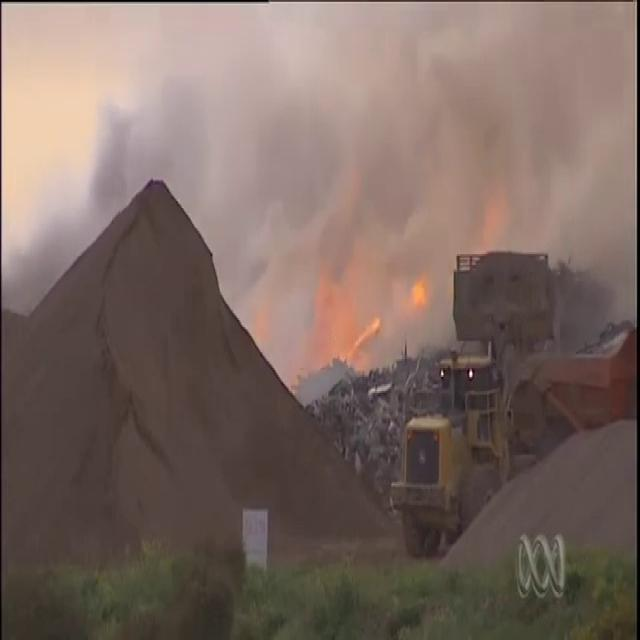Smoke: (333, 2, 634, 355)
